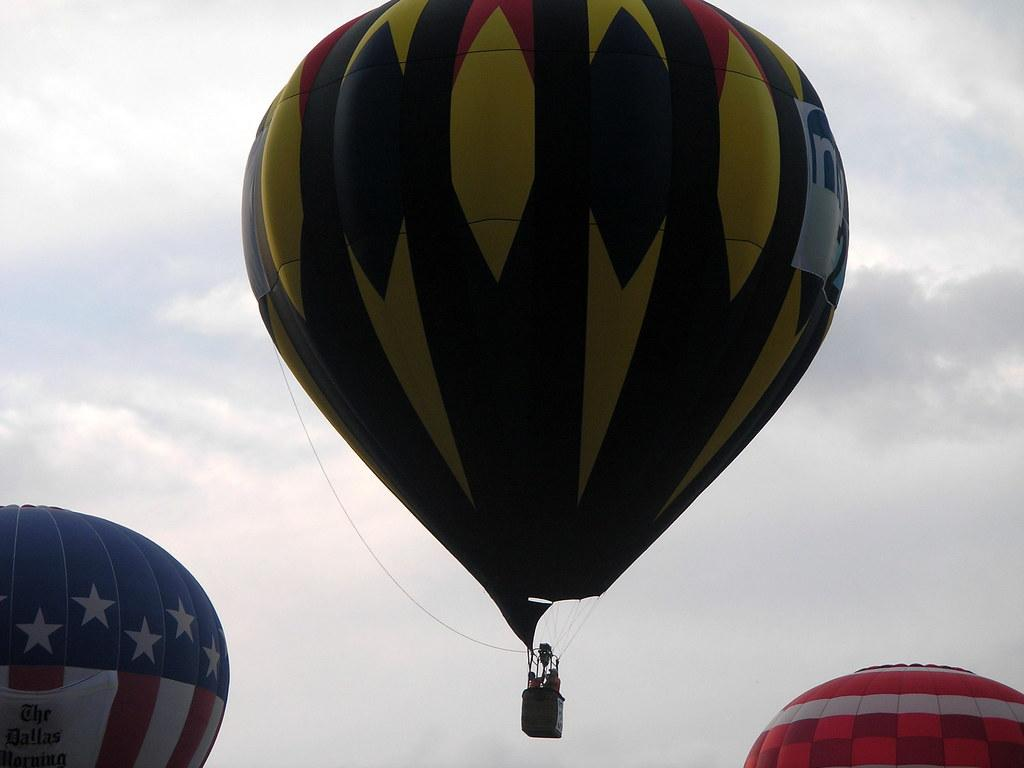balloon: (241, 1, 853, 743), (1, 503, 234, 768), (739, 661, 1024, 768)
